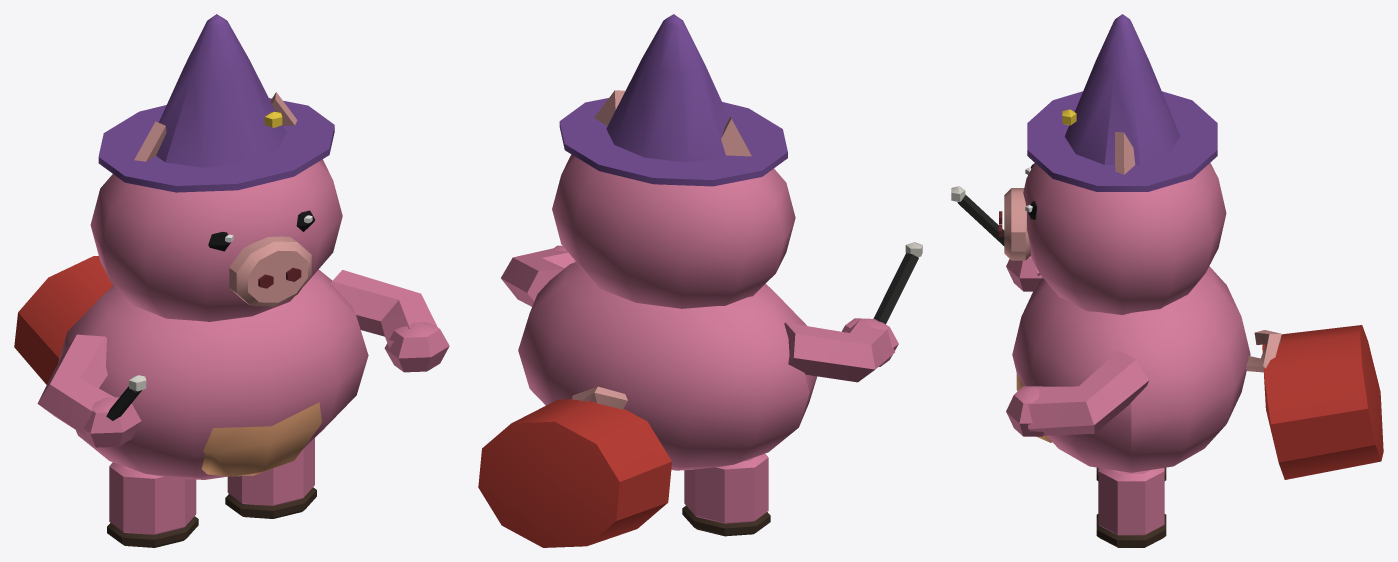
Rendered from 175_cochon_magicien.fbx.
3 views of the same model, side by side, from view 1: azimuth 30°, elevation 25°; view 2: azimuth 150°, elevation 25°; view 3: azimuth 270°, elevation 25° (orthographic). The views are drawn at different scales.
Parts seen in each view (by area): view 1: Corps, Accessoire; view 2: Corps, Accessoire; view 3: Corps, Accessoire.
Part boxes in pixels (bbox=[...]): Corps: bbox=[37, 92, 449, 547]; Accessoire: bbox=[14, 14, 334, 420]; Corps: bbox=[501, 90, 898, 536]; Accessoire: bbox=[478, 14, 922, 547]; Corps: bbox=[999, 132, 1281, 547]; Accessoire: bbox=[951, 14, 1383, 479].
Size of the model in its own units: 0.56 by 0.7 by 0.56.
Materials: 1 (1 with a texture image).
